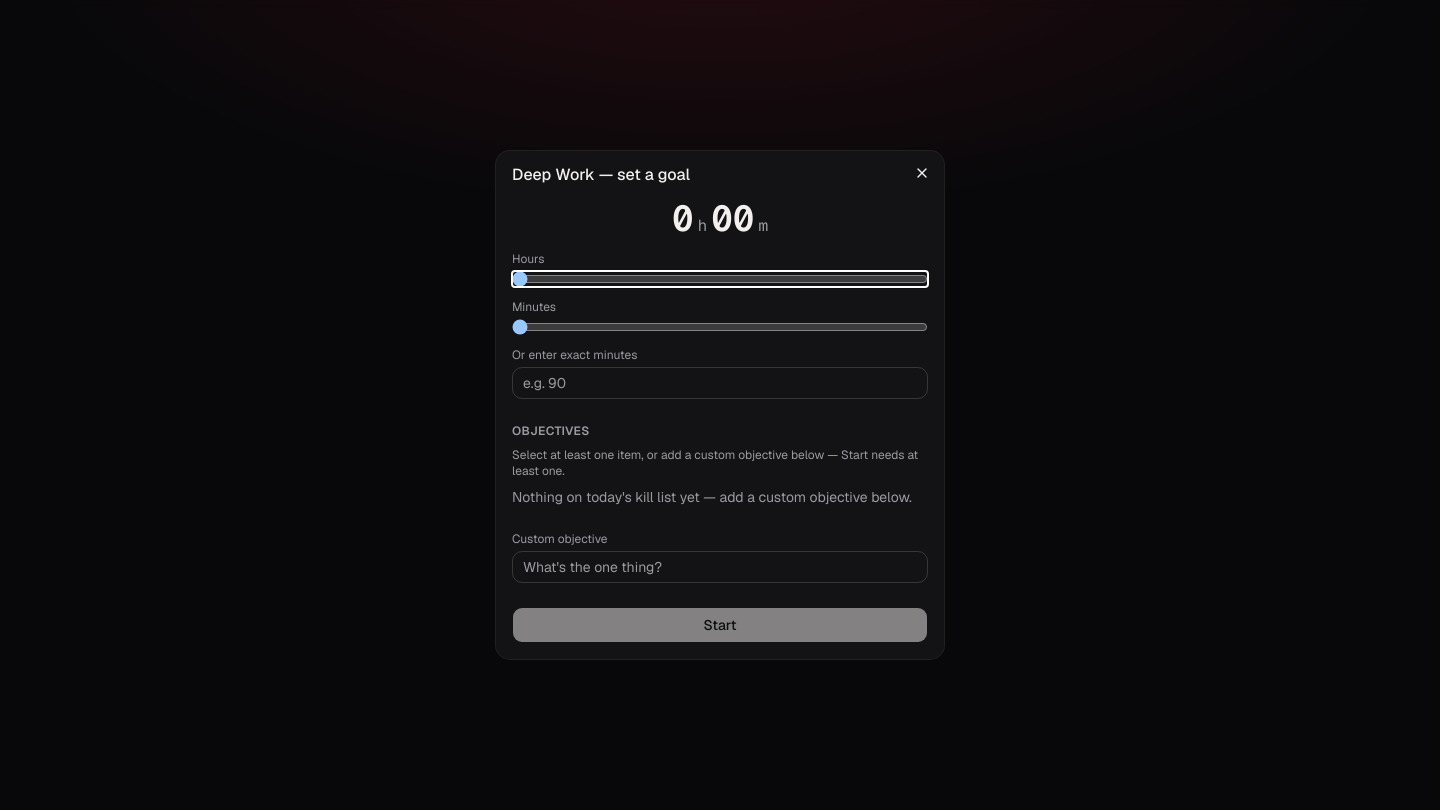
SessionSetupDialog › duration › enables Start once a duration is typed and an objective is given
The image size is (1440, 810).
Type "45" into the field named "Duration in minutes". click: (720, 383)
box: [512,367,928,399]
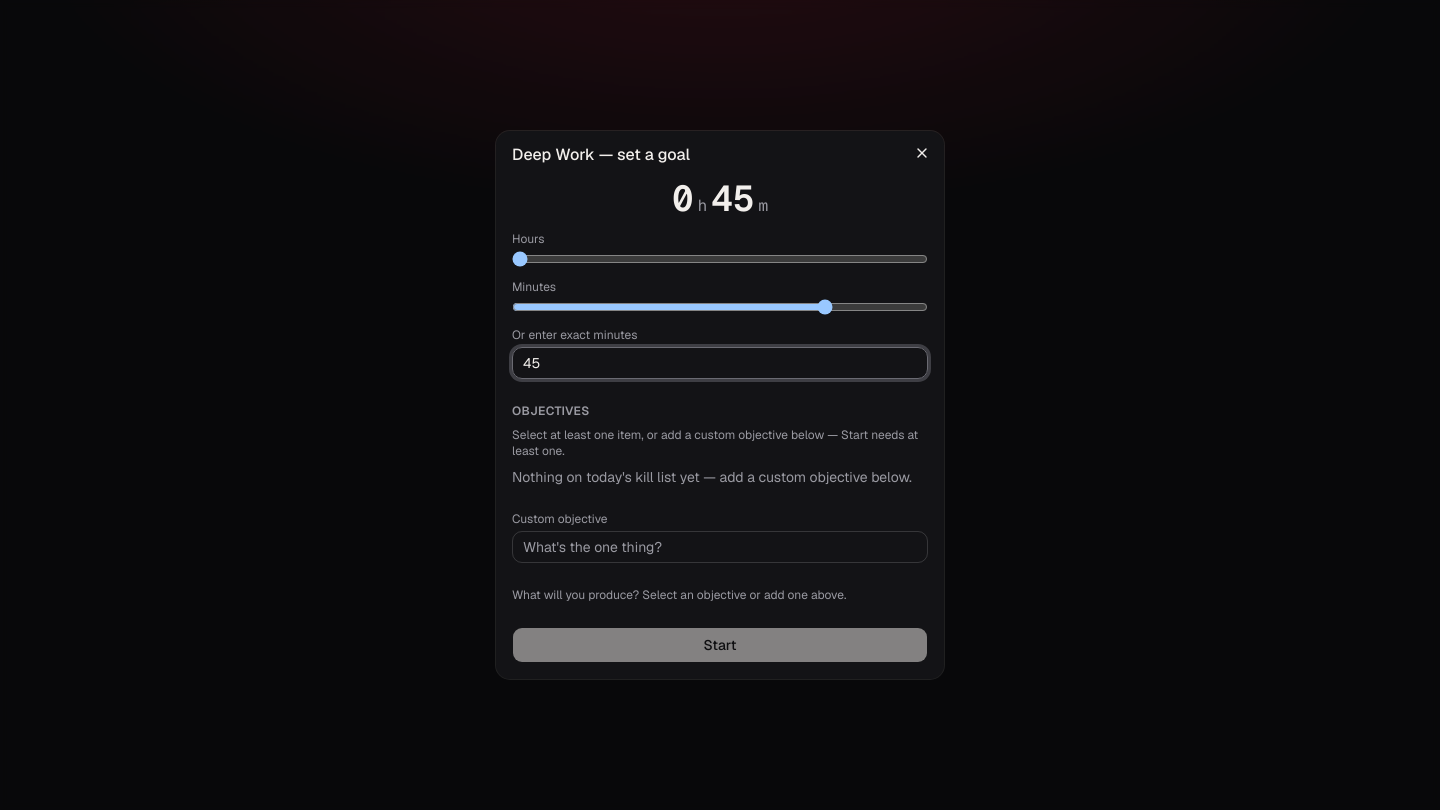
Expected: the button "Start" is disabled, [512,627,928,663]
Type "Ship it" into the field labelled "Custom objective". click: (720, 547)
box: [512,531,928,563]
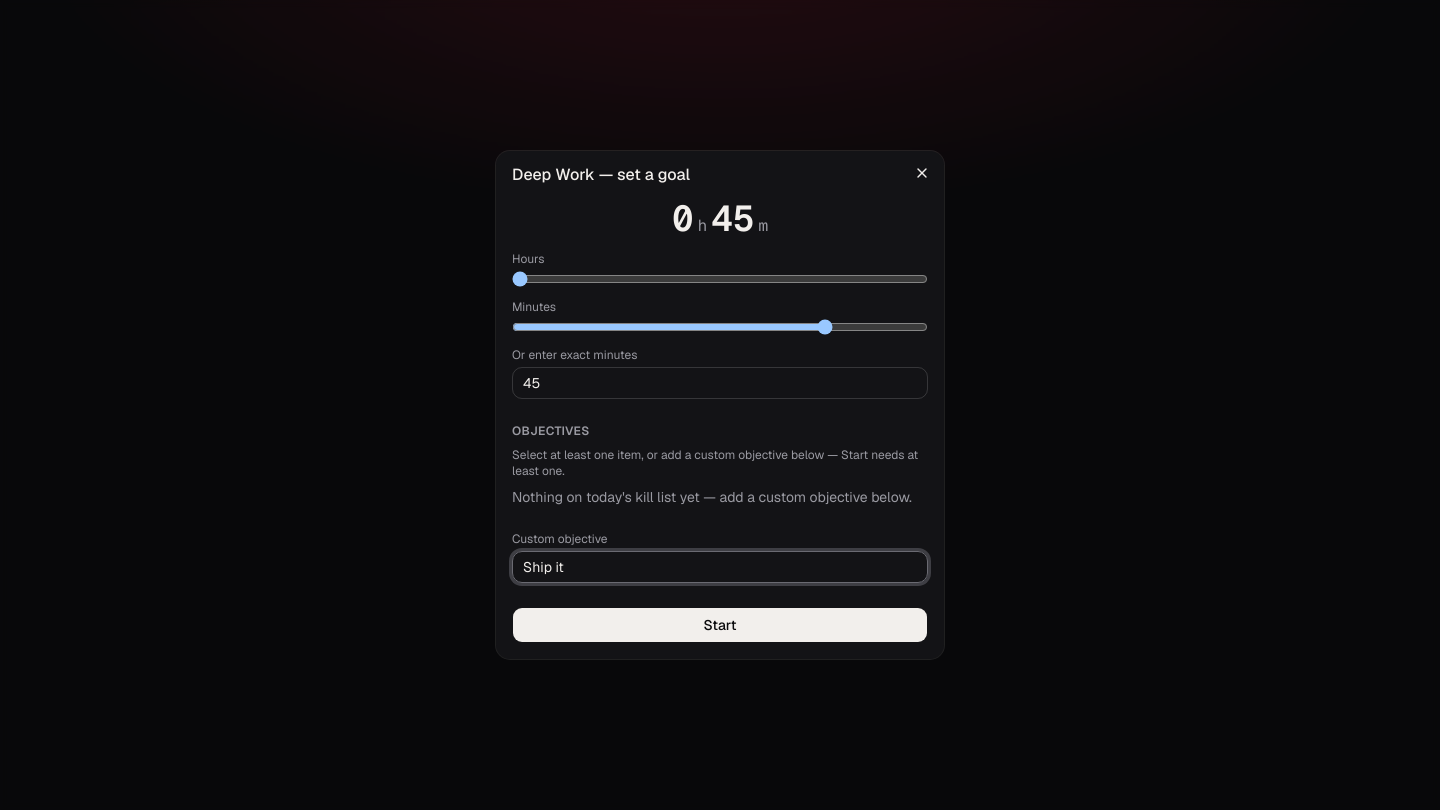
Expected: the button "Start" is enabled, [512,607,928,643]
